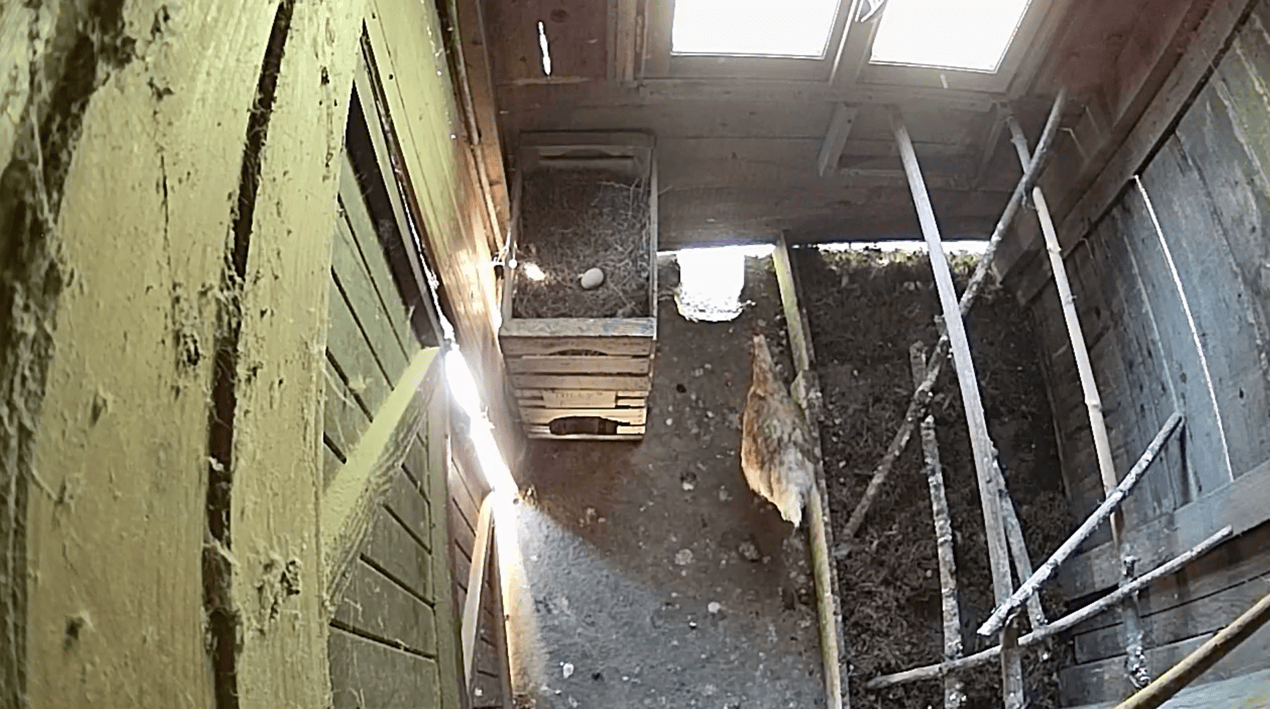chicken: (728, 314, 829, 533)
egg: (574, 261, 609, 294)
